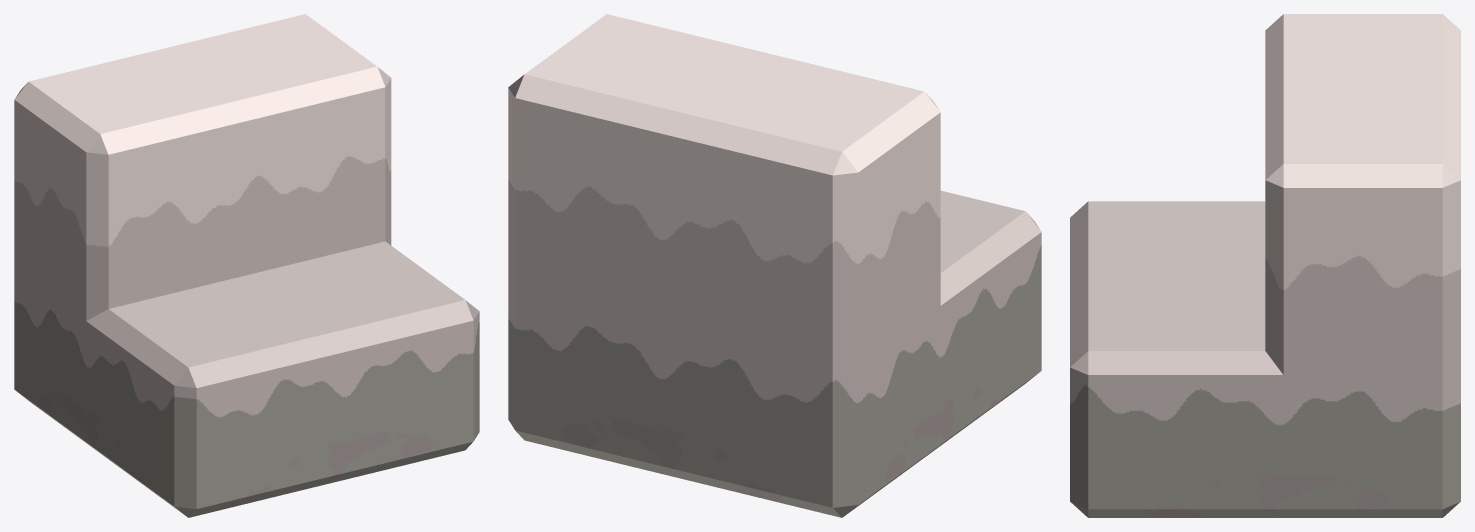
File: R4B_Step_LOD1.glb
3 renders of one model, left to right at view 1: azimuth 30°, elevation 25°; view 2: azimuth 150°, elevation 25°; view 3: azimuth 270°, elevation 25°, orthographic. The views are drawn at different scales.
Visible parts, largest first — view 1: R4B_Step_LOD1; view 2: R4B_Step_LOD1; view 3: R4B_Step_LOD1.
Boxes of the visible parts, x1,y1,x2,y2 form: R4B_Step_LOD1: (14,14,479,517); R4B_Step_LOD1: (508,14,1041,517); R4B_Step_LOD1: (1070,14,1460,517).
Bounding box in the file's own units: 0.52 × 0.52 × 0.52.
Materials: 1 (1 with a texture image).
